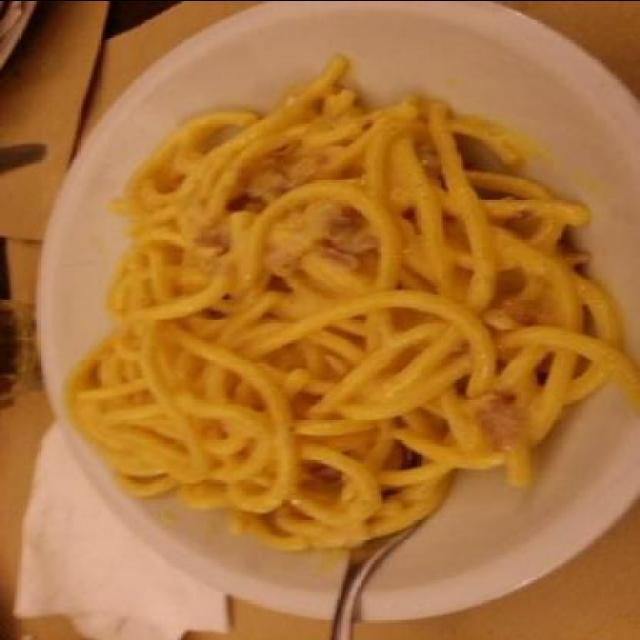Pasta with carbonara sauce: (46, 24, 608, 581)
